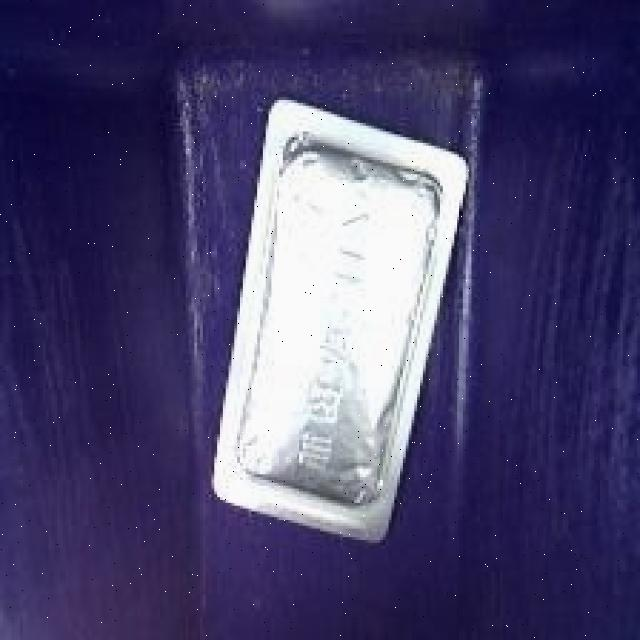med_plate: (201, 87, 484, 565)
